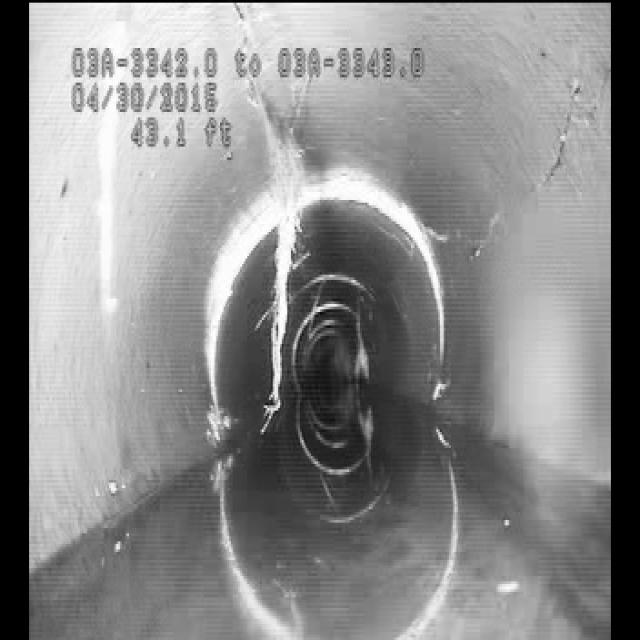Crack: (483, 77, 589, 260)
